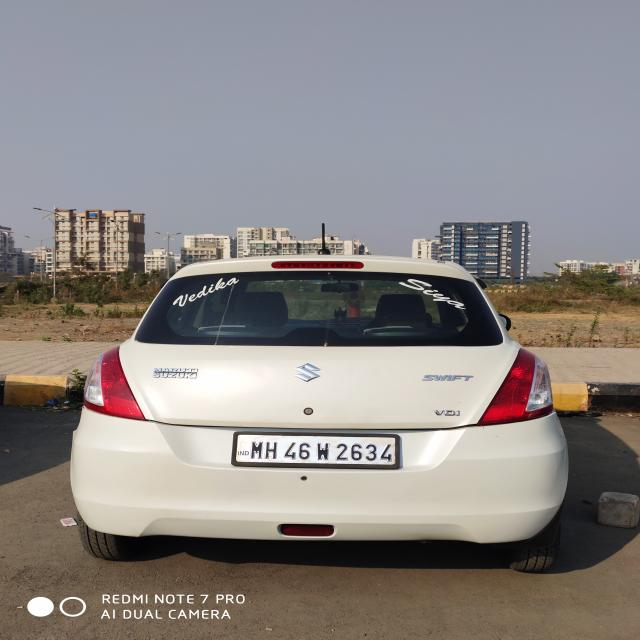Number-Plate: (235, 435, 398, 466)
